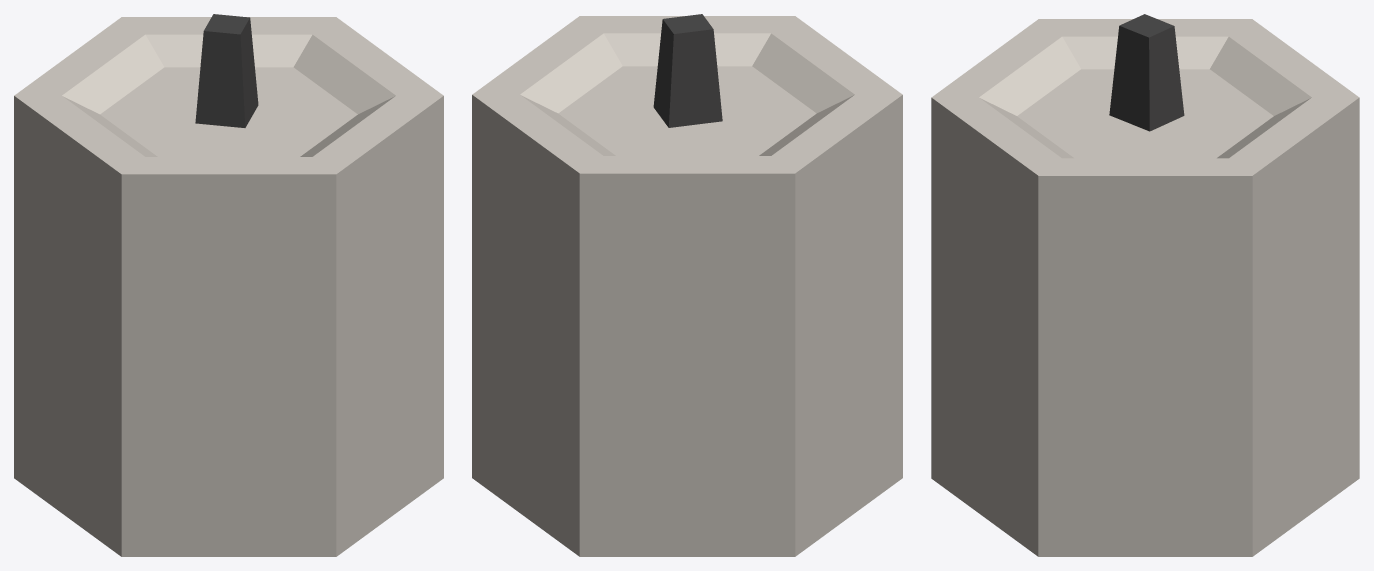
The model's file is candles.glb.
The picture shows the model from 3 angles, left to right: view 1: azimuth 30°, elevation 25°; view 2: azimuth 150°, elevation 25°; view 3: azimuth 270°, elevation 25°; orthographic projection.
Visible parts, largest first — view 1: SM_Prop_Candles_02; view 2: SM_Prop_Candles_02; view 3: SM_Prop_Candles_02.
Part boxes in pixels (left/top/right/bottom): SM_Prop_Candles_02: left=14, top=14, right=443, bottom=556; SM_Prop_Candles_02: left=472, top=14, right=902, bottom=556; SM_Prop_Candles_02: left=931, top=14, right=1359, bottom=556.
Bounding box in the file's own units: 0.3715 × 0.5 × 0.429.
1 material, 1 textured.
